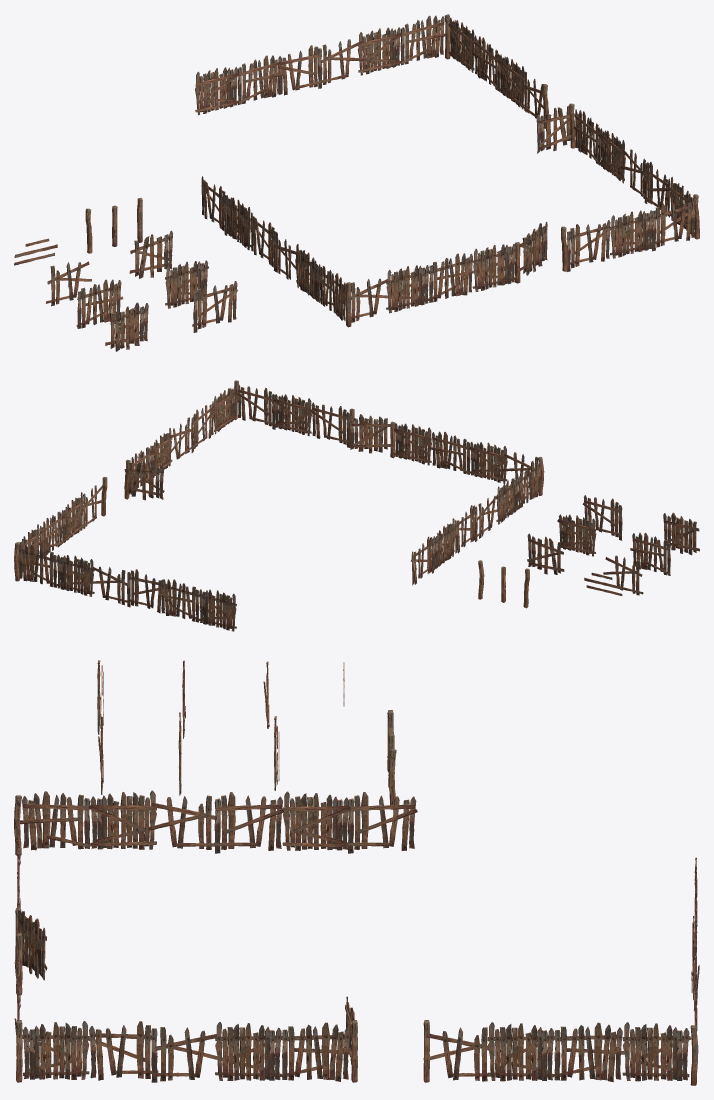
The model's file is modular_wooden_fence.glb.
3 views of the same model, one above another, from view 1: azimuth 30°, elevation 25°; view 2: azimuth 150°, elevation 25°; view 3: azimuth 270°, elevation 25° (orthographic). The views are drawn at different scales.
Visible parts, largest first — view 1: fence, fence_1, gate_1, fence_2, fence_3, gate_2, fence_4; view 2: fence, fence_1, fence_2, gate_1, fence_3, gate_2, fence_4; view 3: fence.
Part boxes in pixels (<box>): fence: <box>195,14,699,327</box>; fence_1: <box>165,260,208,308</box>; gate_1: <box>105,302,148,351</box>; fence_2: <box>76,279,123,328</box>; fence_3: <box>192,281,237,332</box>; gate_2: <box>129,230,172,278</box>; fence_4: <box>46,261,91,306</box>; fence: <box>14,380,544,631</box>; fence_1: <box>557,514,596,556</box>; fence_2: <box>630,532,670,575</box>; gate_1: <box>663,512,699,555</box>; fence_3: <box>582,495,622,540</box>; gate_2: <box>527,533,564,574</box>; fence_4: <box>603,555,643,595</box>; fence: <box>14,790,699,1085</box>.
Bounding box in the file's own units: 28.56 × 2.4 × 22.17.
1 material, 1 textured.
